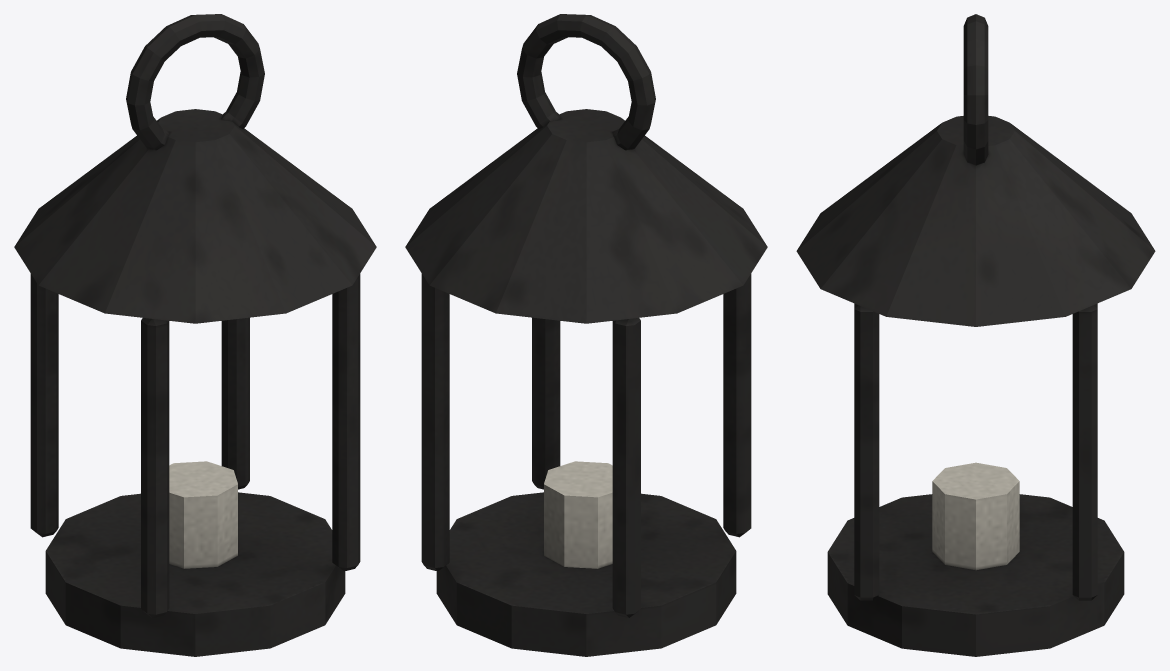
Rendered from Prop_Lantern.fbx.
The picture shows the model from 3 angles, left to right: view 1: azimuth 30°, elevation 25°; view 2: azimuth 150°, elevation 25°; view 3: azimuth 270°, elevation 25°; orthographic projection.
Visible parts, largest first — view 1: Prop_Lantern; view 2: Prop_Lantern; view 3: Prop_Lantern.
Boxes of the visible parts, bbox=[...] form: Prop_Lantern: bbox=[14, 14, 376, 656]; Prop_Lantern: bbox=[405, 14, 767, 656]; Prop_Lantern: bbox=[796, 14, 1155, 656].
Bounding box in the file's own units: 0.23 × 0.405 × 0.23.
